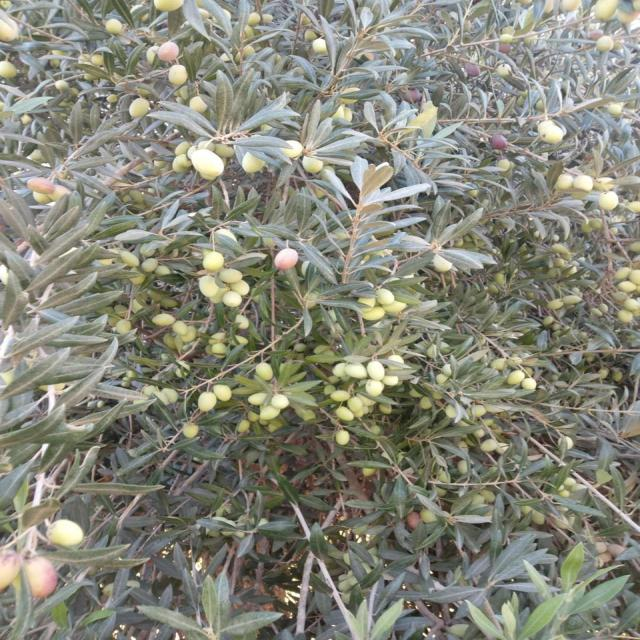Healthy: (46, 519, 83, 547), (189, 149, 223, 176), (274, 248, 298, 270), (157, 41, 179, 62), (203, 250, 223, 272), (199, 275, 219, 297), (597, 190, 619, 210), (129, 97, 149, 118), (168, 64, 187, 86), (366, 360, 385, 380), (212, 384, 232, 402), (219, 268, 241, 284), (375, 288, 394, 306), (199, 392, 216, 412), (345, 364, 367, 379), (222, 290, 241, 307), (257, 362, 274, 381), (365, 379, 384, 396), (152, 314, 175, 326), (507, 370, 525, 385)
